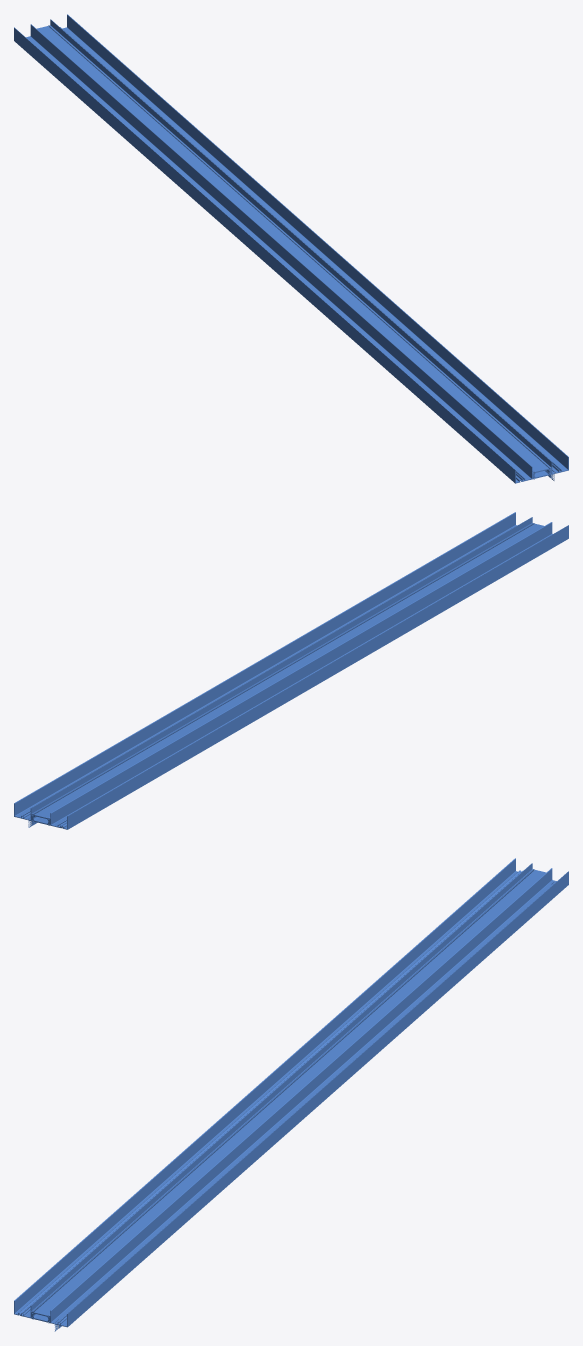
File: right-p2-rcv-t-t02.glb
The picture shows the model from 3 angles, top to bottom: view 1: azimuth 30°, elevation 25°; view 2: azimuth 150°, elevation 25°; view 3: azimuth 330°, elevation 25°; orthographic projection.
Visible parts, largest first — view 1: RIGHT P2_RCV_T T02; view 2: RIGHT P2_RCV_T T02; view 3: RIGHT P2_RCV_T T02.
Part boxes in pixels (x1,y1,x2,y2): RIGHT P2_RCV_T T02: [14, 14, 568, 483]; RIGHT P2_RCV_T T02: [14, 512, 568, 829]; RIGHT P2_RCV_T T02: [14, 858, 568, 1331].
Size of the model in its own units: 0.00418 by 0.00726 by 0.0676.
